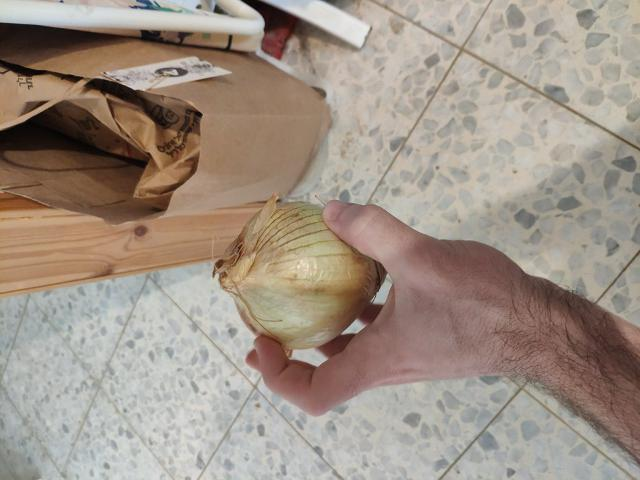onion: (206, 193, 397, 355)
